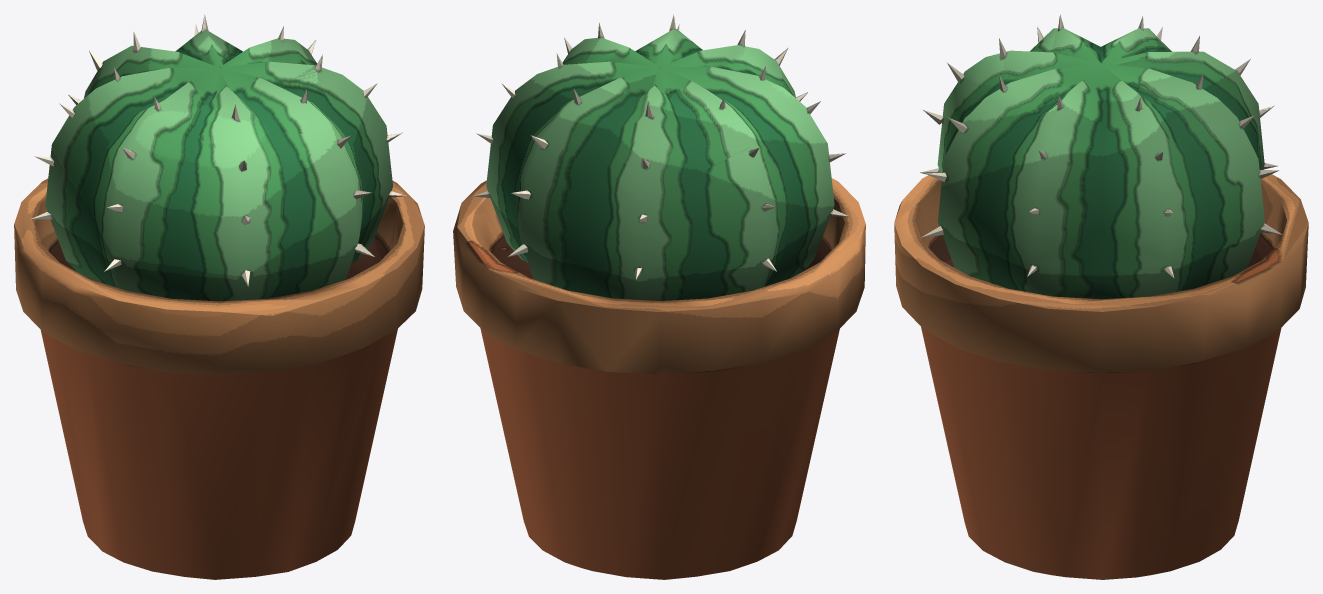
File: cactus1_model.glb
3 views of the same model, side by side, from view 1: azimuth 30°, elevation 25°; view 2: azimuth 150°, elevation 25°; view 3: azimuth 270°, elevation 25° (orthographic).
Visible parts, largest first — view 1: cactus_pot; view 2: cactus_pot; view 3: cactus_pot.
Part boxes in pixels (bbox=[...]): cactus_pot: bbox=[14, 14, 424, 579]; cactus_pot: bbox=[453, 14, 865, 579]; cactus_pot: bbox=[894, 14, 1308, 579].
Size of the model in its own units: 0.0958 by 0.12 by 0.0956.
1 material, 1 textured.
